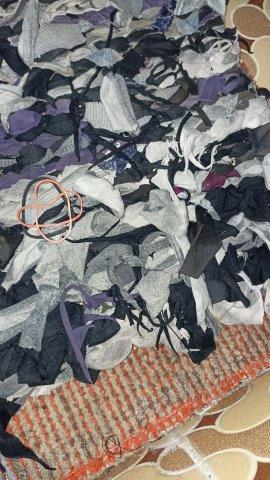karet: (17, 176, 83, 242)
